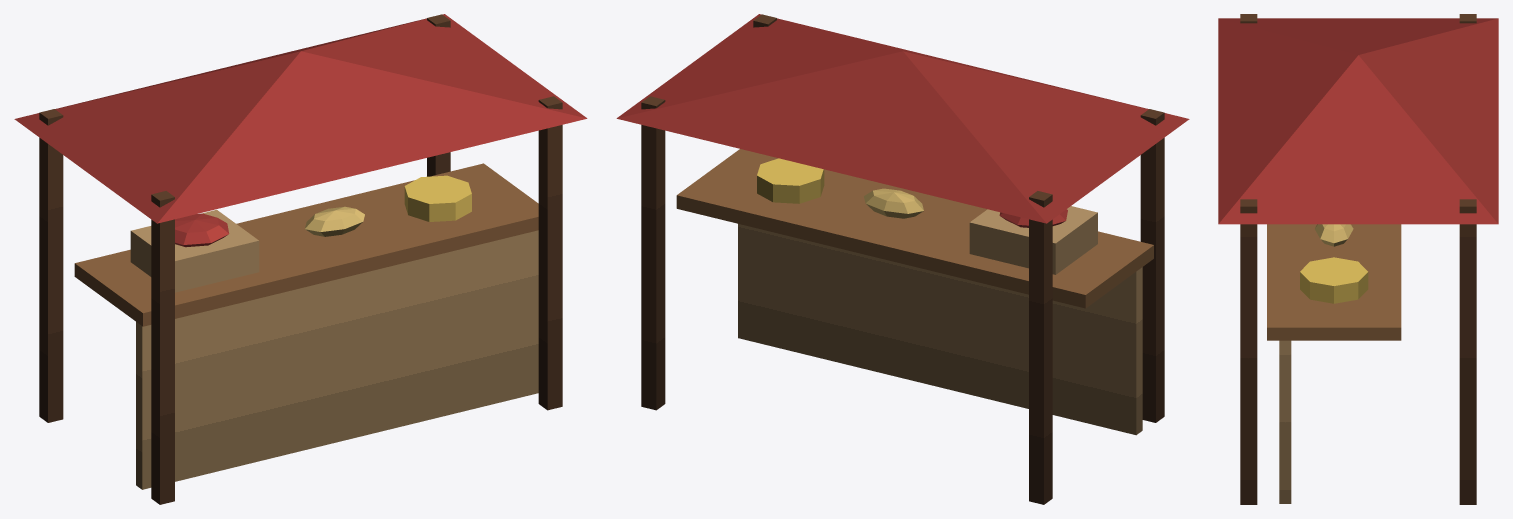
The model's file is stall.glb.
3 views of the same model, side by side, from view 1: azimuth 30°, elevation 25°; view 2: azimuth 150°, elevation 25°; view 3: azimuth 270°, elevation 25° (orthographic).
Bounding box in the file's own units: 2 × 1.6 × 1.15.
Materials: 1 (1 with a texture image).
